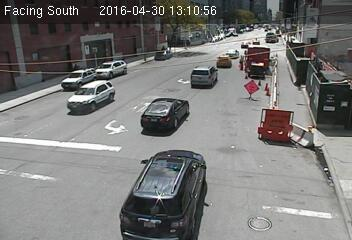neg: (130, 41, 143, 58), (64, 57, 74, 71), (87, 54, 96, 66)
pos: (236, 54, 250, 72)
